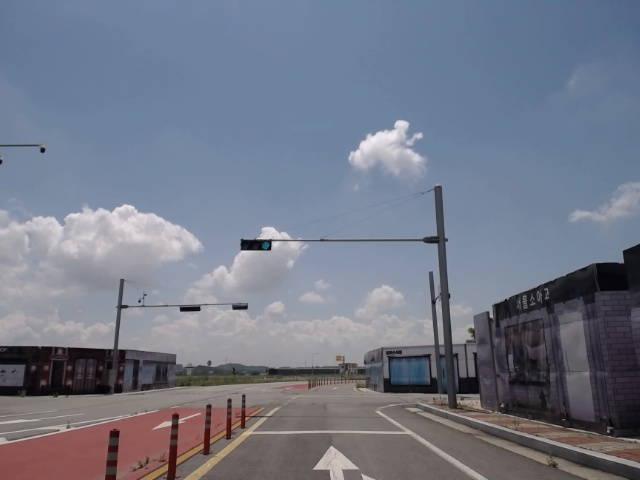green_3: (240, 238, 271, 249)
